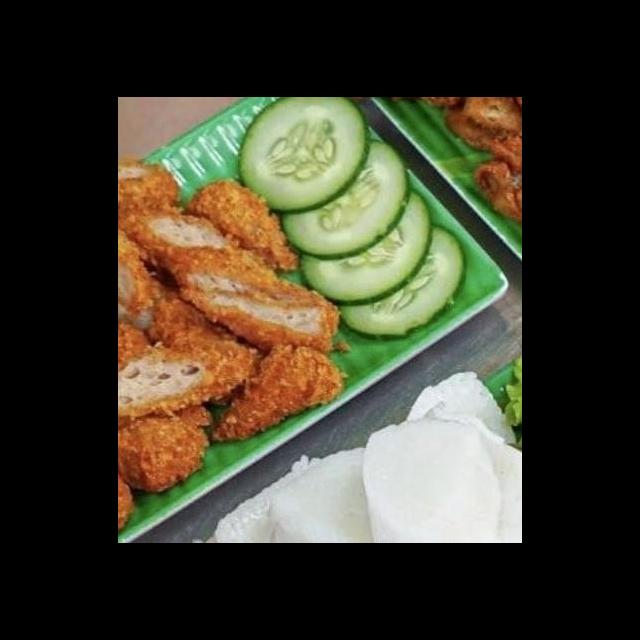cha com: (119, 145, 354, 527)
